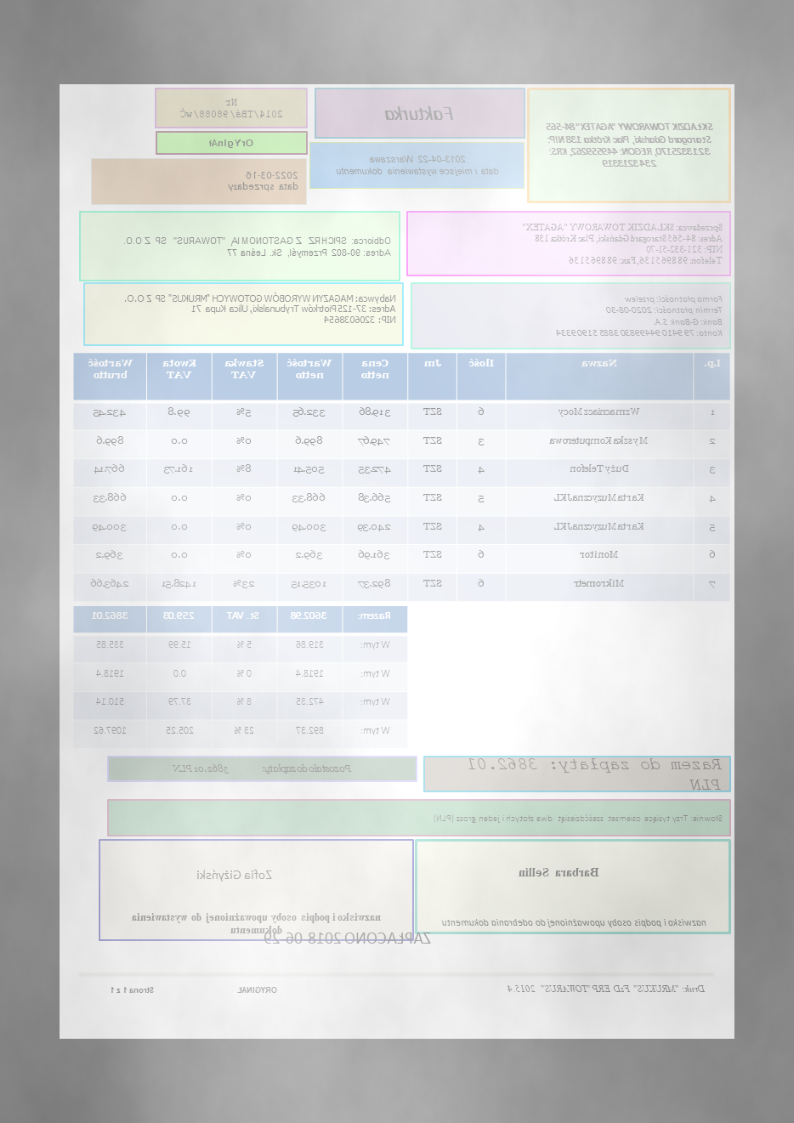Table: (73, 352, 732, 602), (73, 604, 409, 748)
TextBox: (522, 220, 726, 267), (125, 292, 399, 326), (545, 119, 717, 171), (468, 757, 723, 791), (553, 292, 725, 340), (120, 234, 393, 259), (130, 911, 383, 935), (334, 152, 502, 178), (441, 916, 709, 930), (432, 813, 724, 825), (263, 931, 434, 947), (178, 95, 286, 120), (505, 982, 706, 995), (169, 762, 354, 775), (225, 168, 301, 194), (109, 984, 279, 995), (383, 105, 456, 122), (519, 865, 601, 879), (195, 868, 275, 882), (206, 136, 256, 150)
